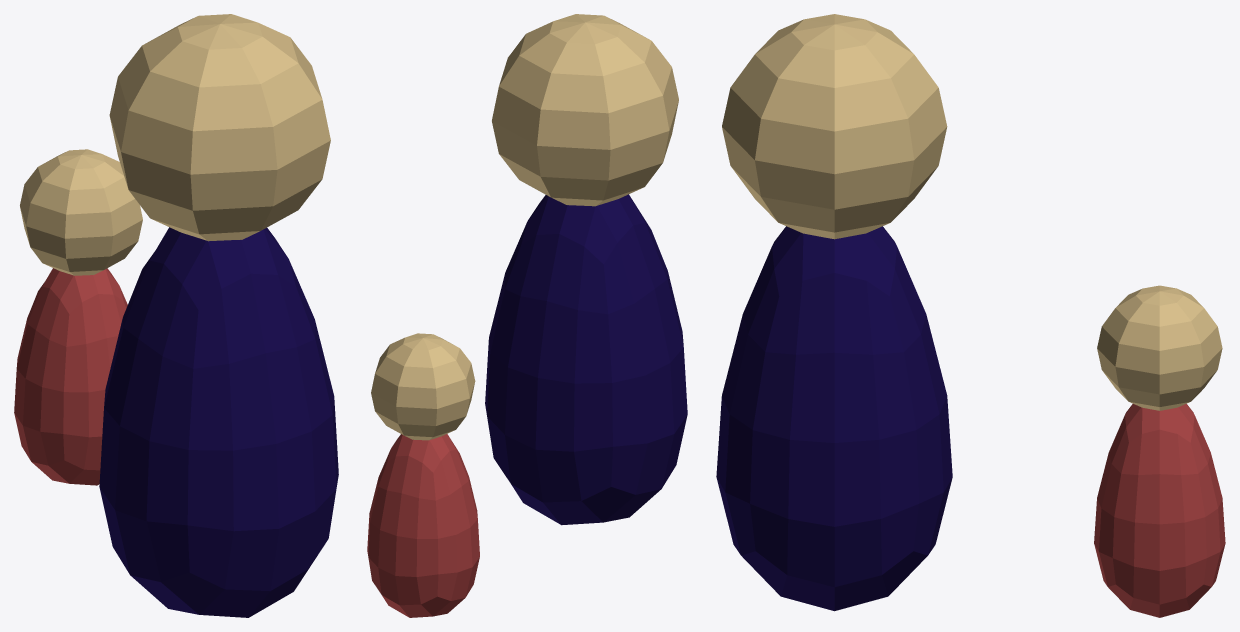
The model's file is mhuman2.glb.
3 views of the same model, side by side, from view 1: azimuth 30°, elevation 25°; view 2: azimuth 150°, elevation 25°; view 3: azimuth 270°, elevation 25° (orthographic). The views are drawn at different scales.
Visible parts, largest first — view 1: Human.010; view 2: Human.010; view 3: Human.010.
Part boxes in pixels (<box>): Human.010: <box>14,14,338,617</box>; Human.010: <box>367,14,687,617</box>; Human.010: <box>716,14,1225,617</box>.
Bounding box in the file's own units: 0.1118 × 0.3013 × 0.241.
